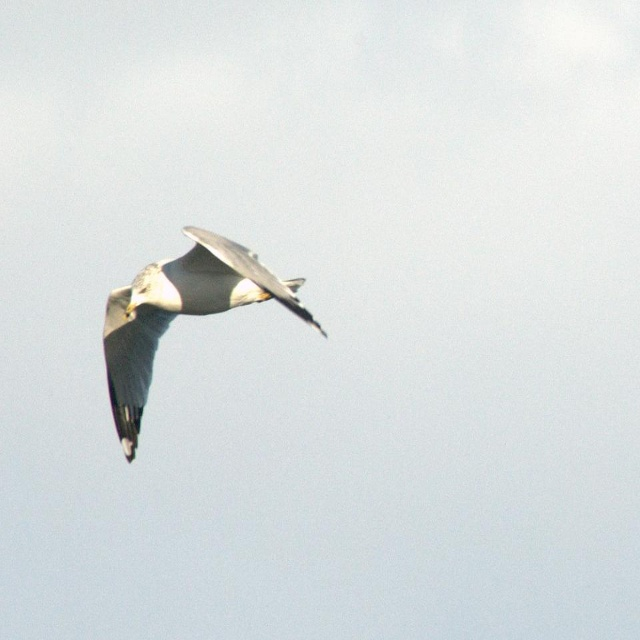Eagle: (99, 223, 326, 465)
